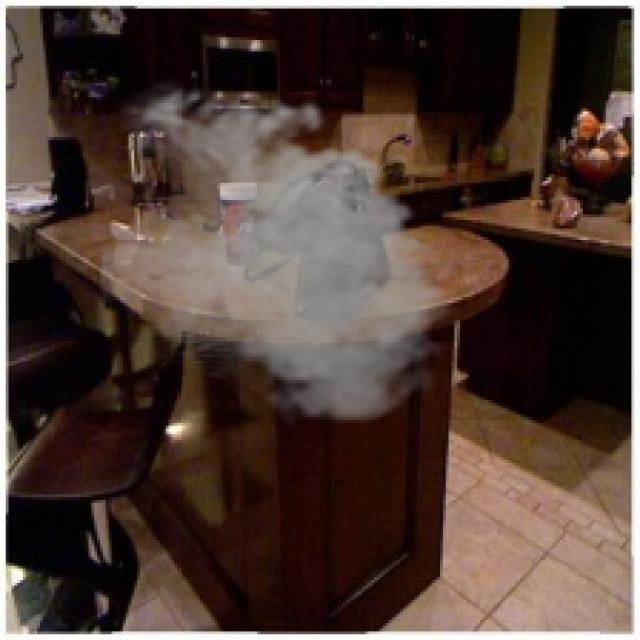Smoke: (97, 77, 463, 432)
